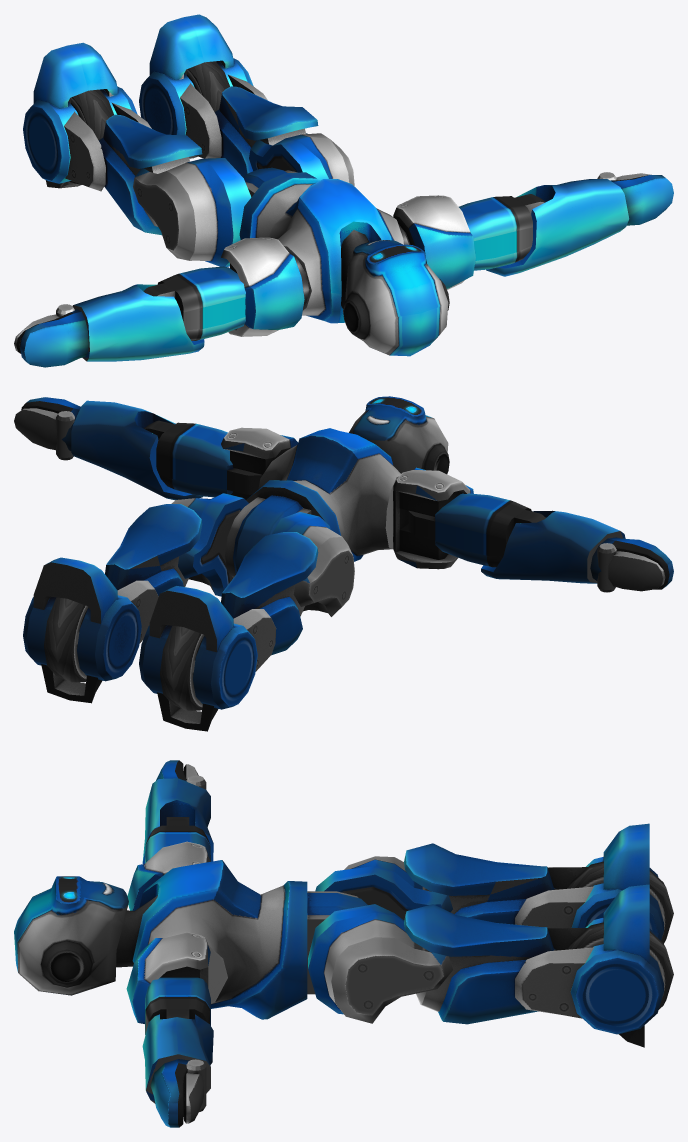
File: servicebot.obj
The picture shows the model from 3 angles, top to bottom: view 1: azimuth 30°, elevation 25°; view 2: azimuth 150°, elevation 25°; view 3: azimuth 270°, elevation 25°; orthographic projection. The views are drawn at different scales.
Visible parts, largest first — view 1: Torso, Head, Thigh_Left, Calf_Left, Foot_Left, Calf_Right, Forearm_Left, Forearm_Right, Foot_Right, Shoulder_Left, Shoulder_Right, Thigh_Right (+9 smaller); view 2: Torso, Foot_Left, Foot_Right, Calf_Left, Calf_Right, Forearm_Left, Forearm_Right, Head, Shoulder_Left, Thigh_Left, UpperArm_Right, UpperArm_Left (+11 smaller); view 3: Torso, Calf_Right, Thigh_Right, Head, Calf_Left, Foot_Right, Foot_Left, Thigh_Left, Shoulder_Right, Forearm_Right, Forearm_Left, Shoulder_Left (+9 smaller).
Part boxes in pixels (<box>): Torso: <box>239,172,410,323</box>; Head: <box>343,240,449,356</box>; Thigh_Left: <box>133,158,251,266</box>; Calf_Left: <box>64,102,202,235</box>; Foot_Left: <box>23,42,137,188</box>; Calf_Right: <box>180,74,318,177</box>; Forearm_Left: <box>72,284,204,361</box>; Forearm_Right: <box>486,179,629,276</box>; Foot_Right: <box>139,14,253,158</box>; Shoulder_Left: <box>221,237,304,336</box>; Shoulder_Right: <box>393,195,475,289</box>; Thigh_Right: <box>249,133,354,186</box>; Torso: <box>246,428,400,561</box>; Foot_Left: <box>139,586,257,731</box>; Foot_Right: <box>23,557,141,703</box>; Calf_Left: <box>221,532,318,671</box>; Calf_Right: <box>105,504,202,643</box>; Forearm_Left: <box>481,510,625,583</box>; Forearm_Right: <box>71,400,203,500</box>; Head: <box>349,396,449,474</box>; Shoulder_Left: <box>393,467,473,569</box>; Thigh_Left: <box>272,512,354,616</box>; UpperArm_Right: <box>172,423,262,497</box>; UpperArm_Left: <box>408,493,510,566</box>; Torso: <box>116,860,307,1019</box>; Calf_Right: <box>404,904,594,1024</box>; Thigh_Right: <box>308,904,452,1023</box>; Head: <box>14,876,128,995</box>; Calf_Left: <box>404,843,594,928</box>; Foot_Right: <box>570,884,663,1047</box>; Foot_Left: <box>571,823,663,940</box>; Thigh_Left: <box>315,856,452,920</box>; Shoulder_Right: <box>126,932,210,1023</box>; Forearm_Right: <box>142,1014,213,1103</box>; Forearm_Left: <box>142,778,213,863</box>; Shoulder_Left: <box>127,841,210,910</box>.
Size of the model in its own units: 146 by 30.37 by 120.
1 material, 1 textured.
